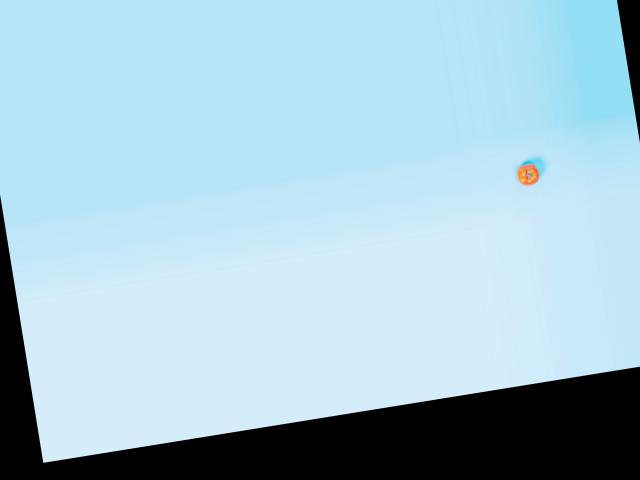tomato: (515, 162, 542, 187)
